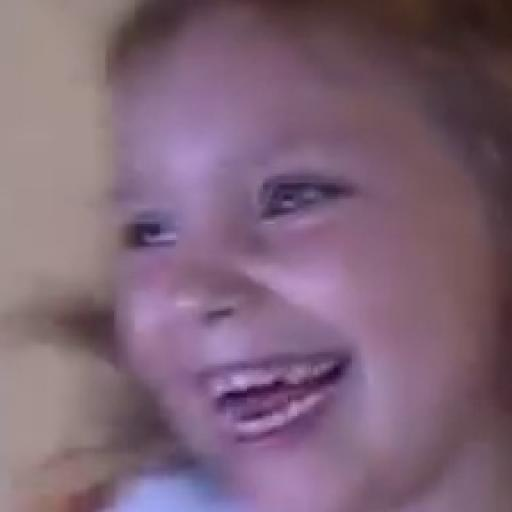Autism: (89, 0, 512, 512)
